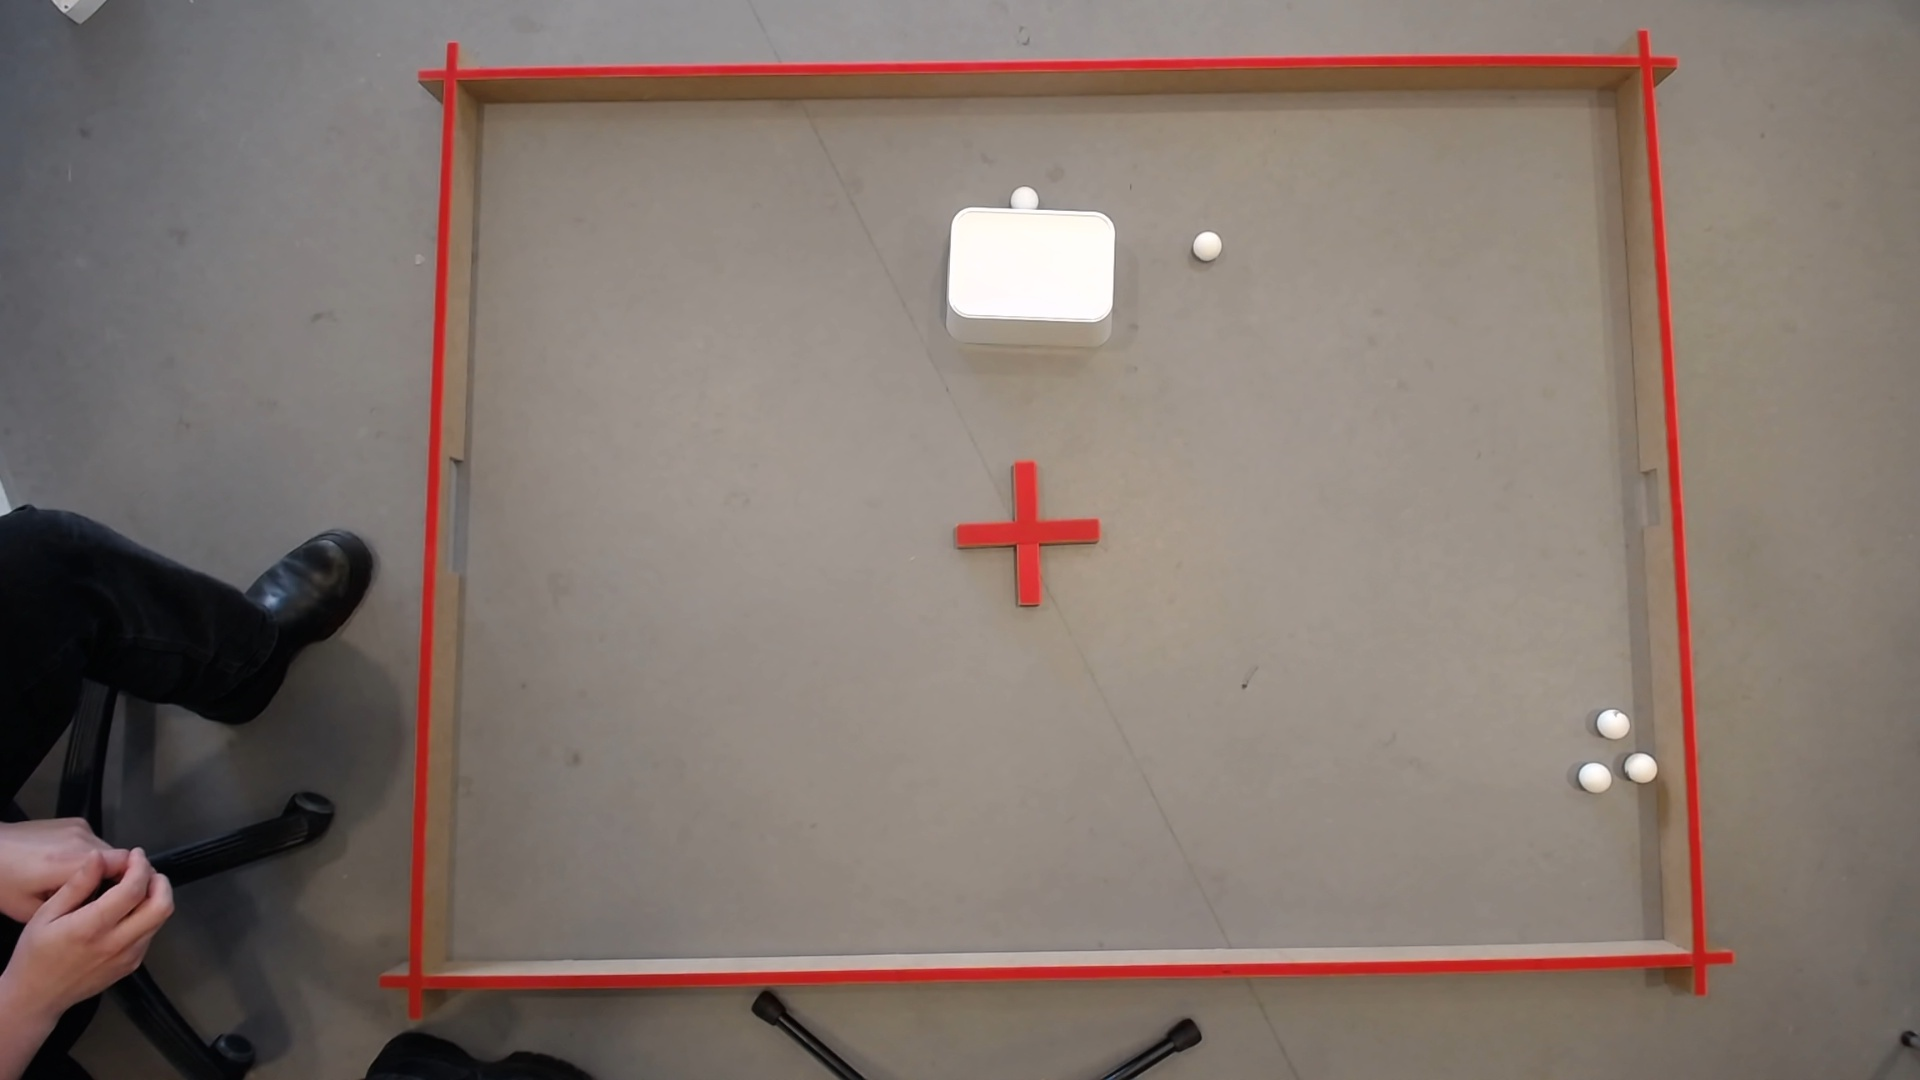balls: (1594, 703, 1631, 737), (1576, 757, 1613, 789), (1625, 749, 1658, 781)
car: (1191, 225, 1224, 256)
